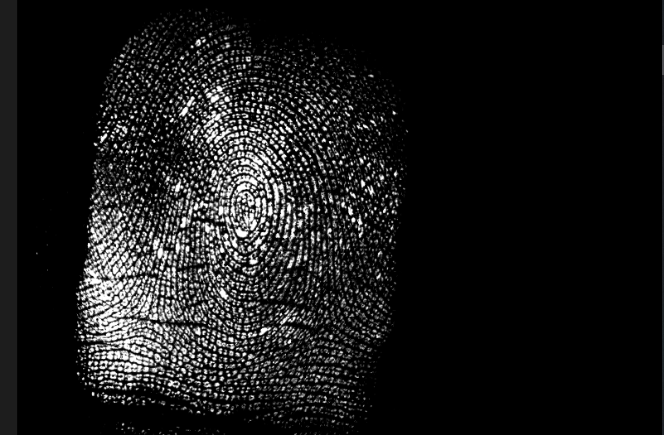nucelo: (232, 185, 263, 237)
verticilo: (309, 311, 344, 343), (131, 302, 160, 330)
